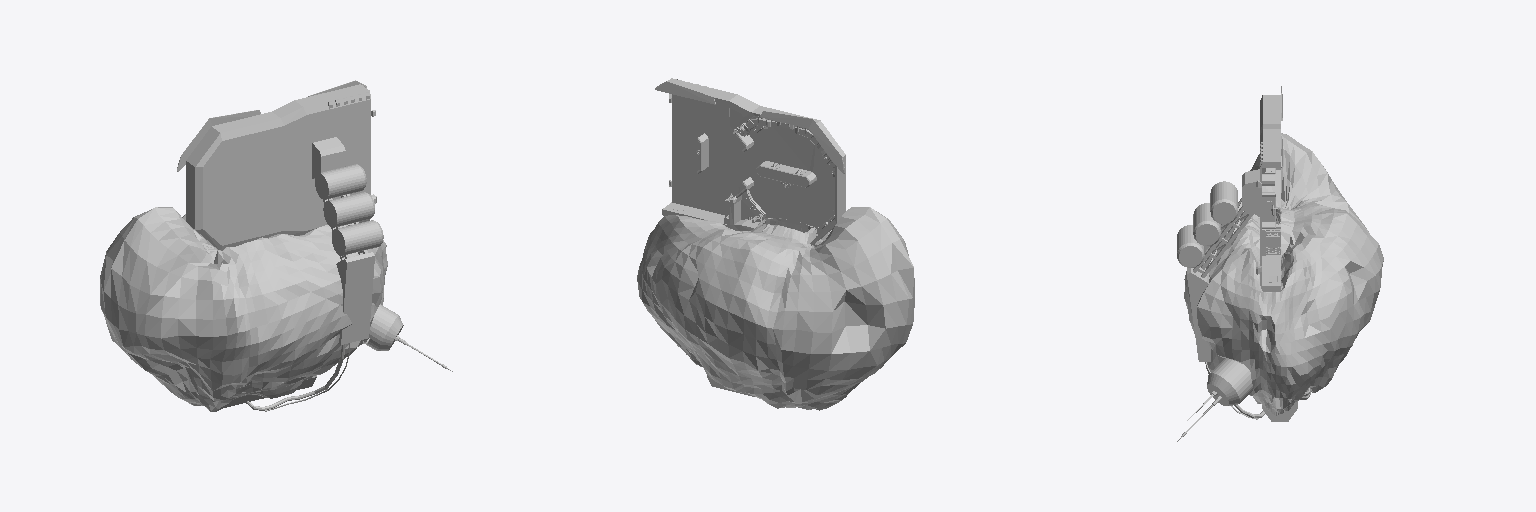
The model's file is mining_01successnormal.obj.
The picture shows the model from 3 angles: view 1: azimuth 30°, elevation 25°; view 2: azimuth 150°, elevation 25°; view 3: azimuth 270°, elevation 25°; orthographic projection.
Visible parts, largest first — view 1: Cube_Cube_asteroid_Material.001; view 2: Cube_Cube_asteroid_Material.001; view 3: Cube_Cube_asteroid_Material.001.
Boxes of the visible parts, x1=… form: Cube_Cube_asteroid_Material.001: x1=100, y1=80, x2=452, y2=411; Cube_Cube_asteroid_Material.001: x1=637, y1=78, x2=914, y2=410; Cube_Cube_asteroid_Material.001: x1=1177, y1=86, x2=1383, y2=441.
Size of the model in its own units: 59.76 by 58.6 by 36.54.